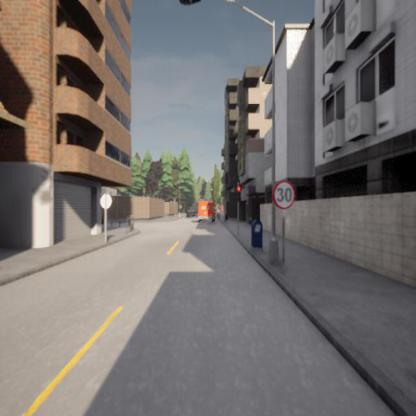traffic_sign_30: (273, 180, 296, 209)
vehicle: (197, 199, 216, 222)
